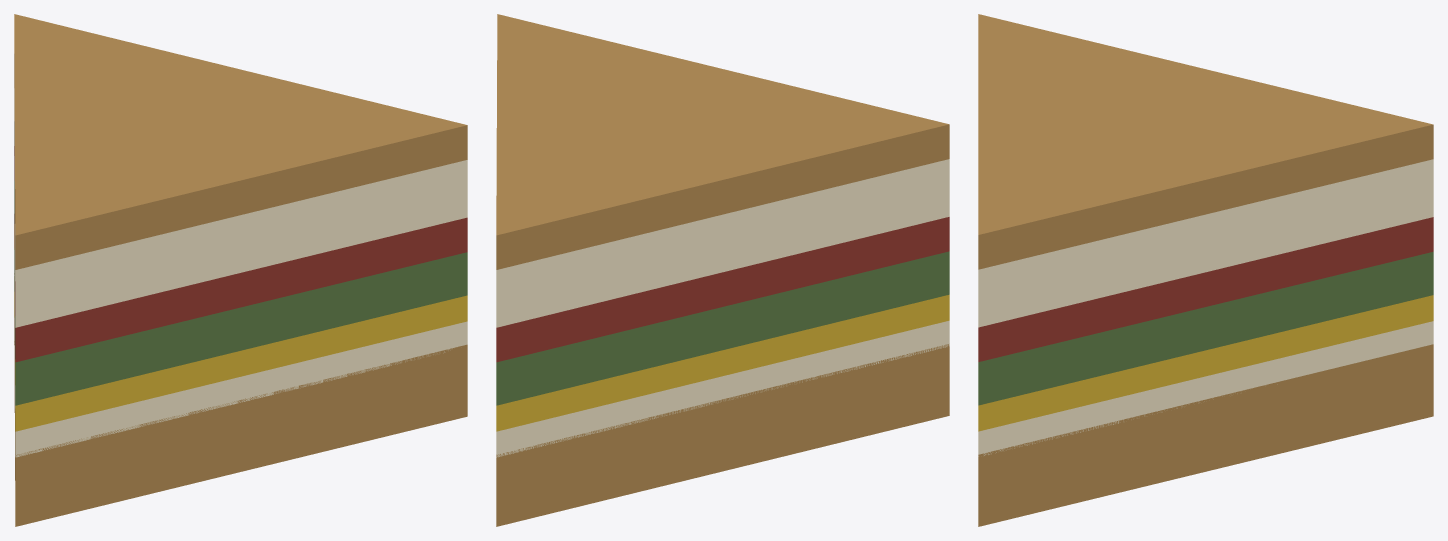
The model's file is P041_giant_sandwich_rebuilt.glb.
3 renders of one model, left to right at view 1: azimuth 30°, elevation 25°; view 2: azimuth 150°, elevation 25°; view 3: azimuth 270°, elevation 25°, orthographic.
Visible parts, largest first — view 1: edge, cream, green, red, yellow; view 2: edge, cream, green, red, yellow; view 3: edge, cream, green, red, yellow.
Boxes of the visible parts, left/top/right/bottom form: edge: left=14, top=14, right=467, bottom=526; cream: left=14, top=88, right=467, bottom=457; green: left=14, top=181, right=467, bottom=405; red: left=14, top=146, right=467, bottom=362; yellow: left=14, top=224, right=467, bottom=431; edge: left=496, top=14, right=949, bottom=526; cream: left=496, top=159, right=949, bottom=457; green: left=496, top=251, right=949, bottom=405; red: left=496, top=217, right=949, bottom=362; yellow: left=496, top=294, right=949, bottom=431; edge: left=978, top=14, right=1433, bottom=526; cream: left=978, top=159, right=1433, bottom=456; green: left=978, top=251, right=1433, bottom=405; red: left=978, top=217, right=1433, bottom=361; yellow: left=978, top=295, right=1433, bottom=431.
Bounding box in the file's own units: 0.229 × 0.141 × 0.1993.
